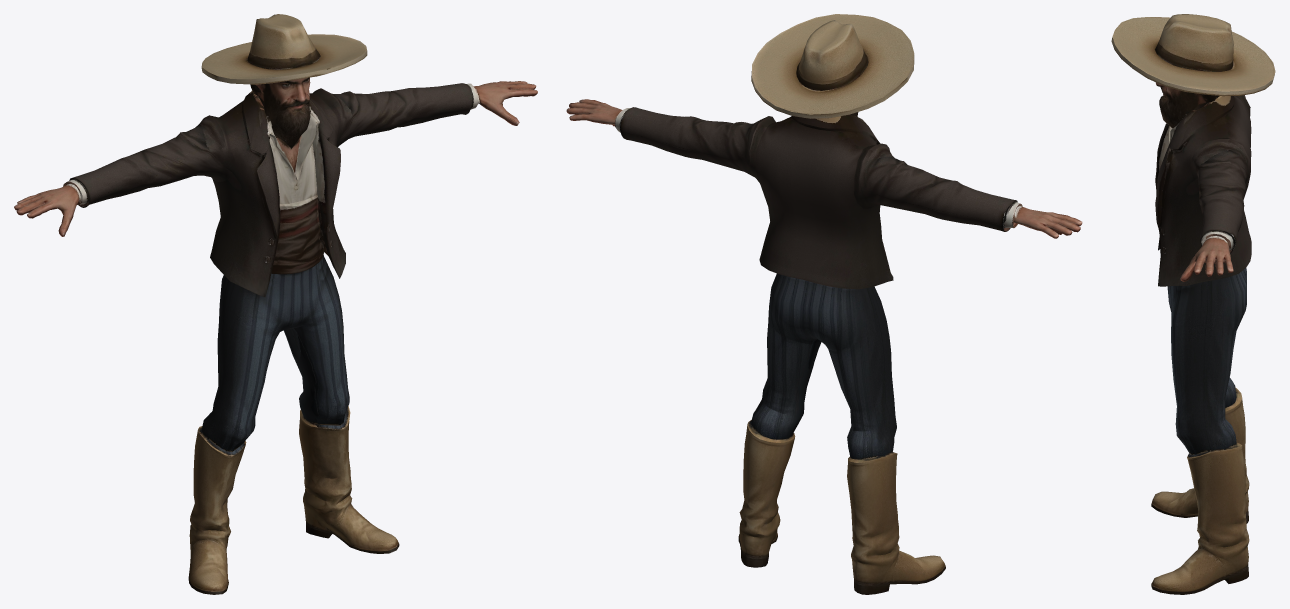
The picture shows the model from 3 angles, left to right: view 1: azimuth 30°, elevation 25°; view 2: azimuth 150°, elevation 25°; view 3: azimuth 270°, elevation 25°; orthographic projection.
Parts seen in each view (by area): view 1: ze_do_telhado; view 2: ze_do_telhado; view 3: ze_do_telhado.
Boxes of the visible parts, bbox=[...] form: ze_do_telhado: bbox=[14, 14, 537, 594]; ze_do_telhado: bbox=[566, 14, 1082, 594]; ze_do_telhado: bbox=[1111, 14, 1275, 594].
Bounding box in the file's own units: 1.8 × 1.79 × 0.5031.
1 material, 1 textured.
